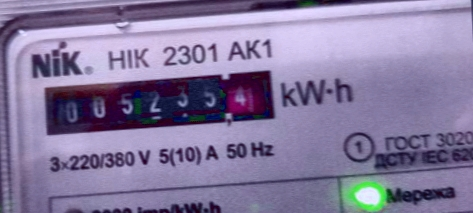0: (91, 91, 108, 116), (64, 95, 80, 121)
2: (146, 84, 164, 111)
3: (173, 80, 191, 106)
4: (231, 77, 250, 107)
5: (201, 78, 218, 106), (119, 87, 135, 113)
screen: (31, 56, 285, 141)
